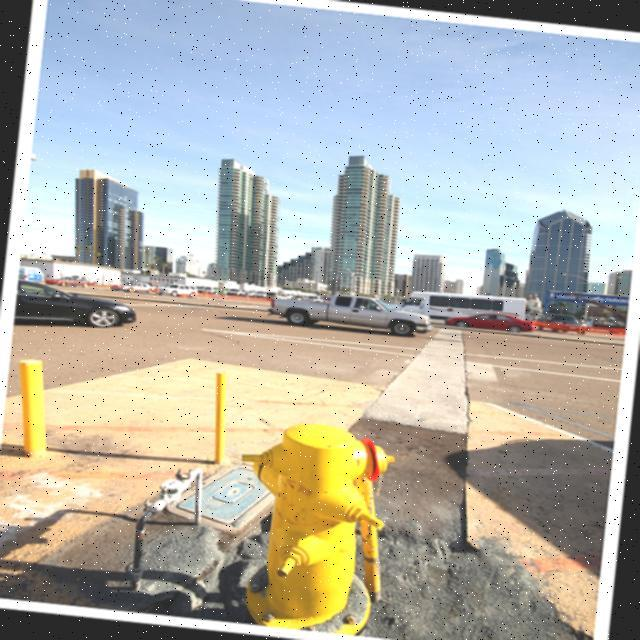fire_hydrant: (223, 413, 392, 639)
